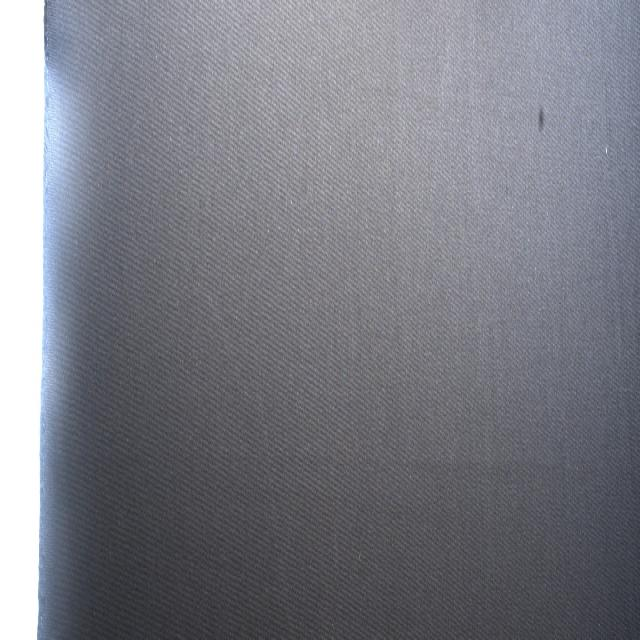crease: (215, 284, 280, 548), (603, 85, 622, 364), (398, 452, 543, 478)
